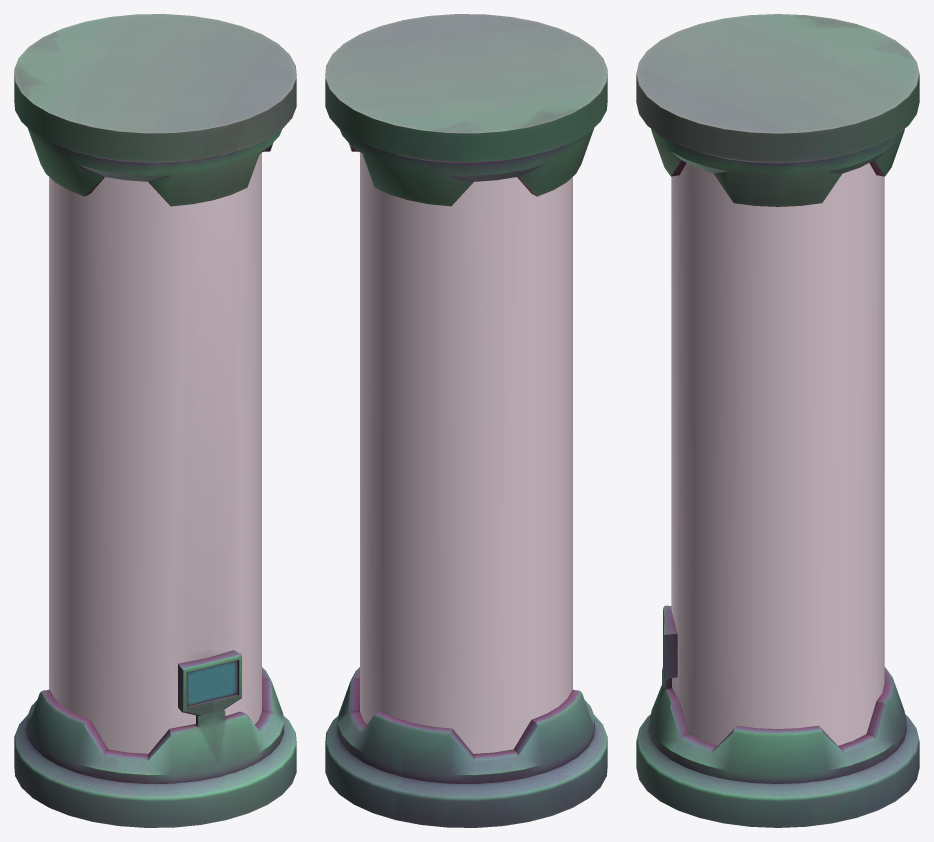
The model's file is pip2_tank_bm.fbx.
3 views of the same model, side by side, from view 1: azimuth 30°, elevation 25°; view 2: azimuth 150°, elevation 25°; view 3: azimuth 270°, elevation 25° (orthographic).
Parts seen in each view (by area): view 1: tank; view 2: tank; view 3: tank.
Part boxes in pixels (x1=…): tank: x1=14, y1=14, x2=296, y2=827; tank: x1=325, y1=14, x2=607, y2=827; tank: x1=636, y1=14, x2=919, y2=827.
Bounding box in the file's own units: 88.02 × 238 × 88.02.
3 materials, 2 textured.
